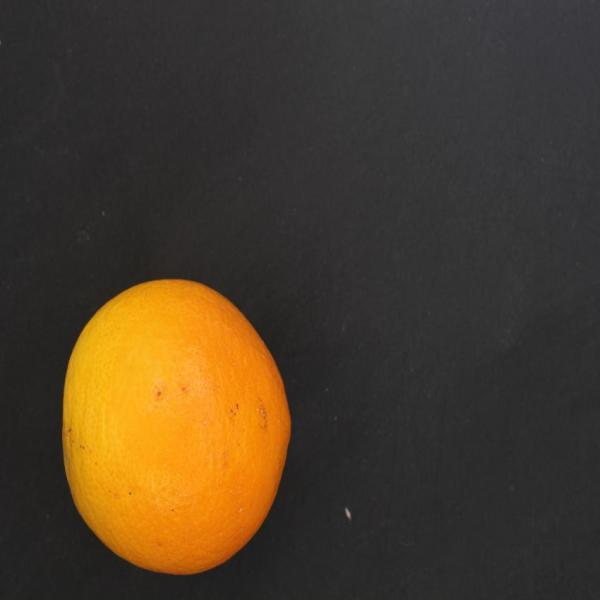Sana: (46, 278, 310, 574)
